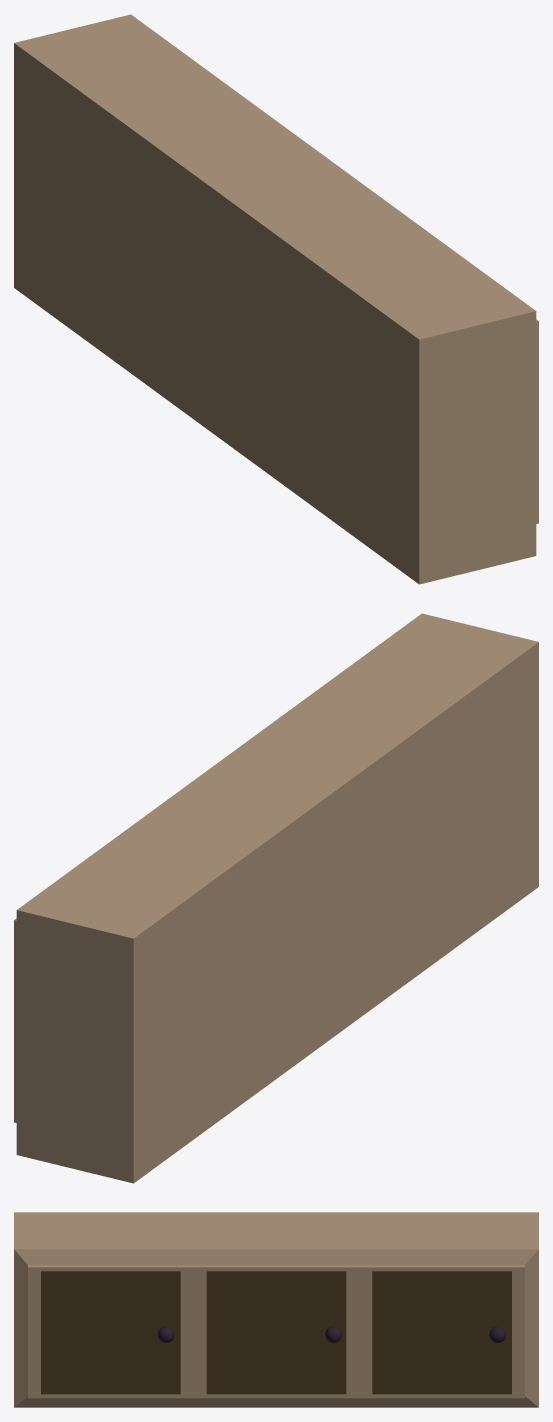
File: wall cupboard.fbx
The picture shows the model from 3 angles, top to bottom: view 1: azimuth 30°, elevation 25°; view 2: azimuth 150°, elevation 25°; view 3: azimuth 270°, elevation 25°; orthographic projection. The views are drawn at different scales.
Visible parts, largest first — view 1: Cube; view 2: Cube; view 3: Cube.
Boxes of the visible parts, x1,y1,x2,y2 form: Cube: (14, 14, 538, 584); Cube: (14, 613, 538, 1183); Cube: (14, 1212, 538, 1407).
Bounding box in the file's own units: 126 × 200 × 600.
